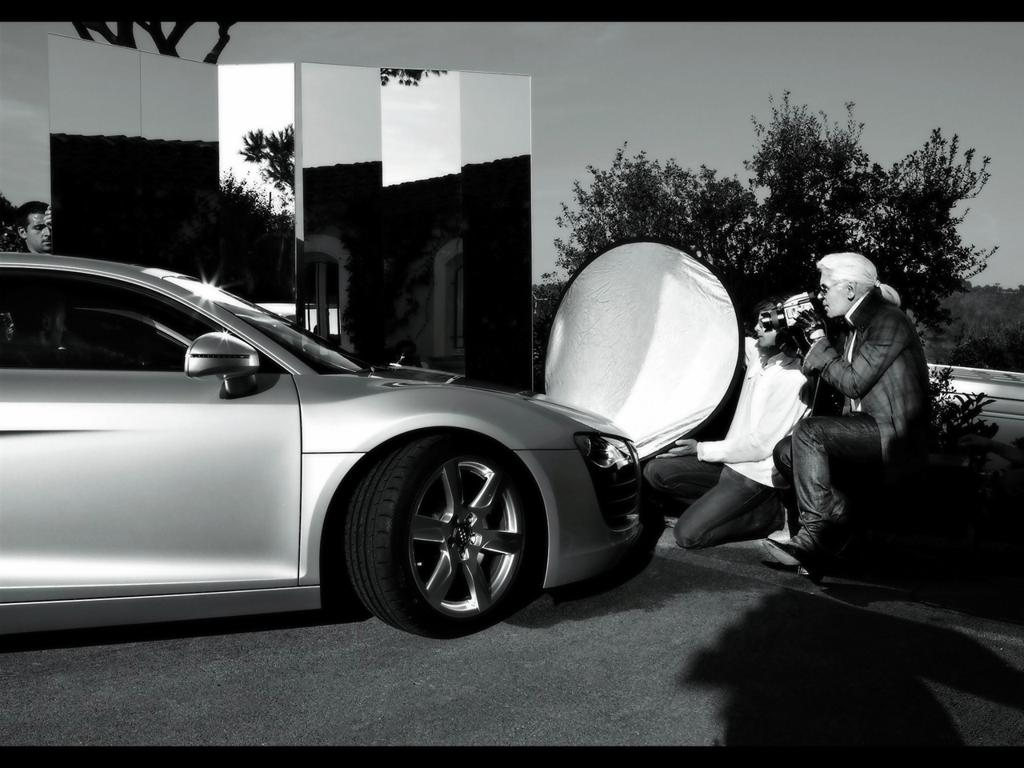face: (817, 271, 848, 317), (27, 213, 54, 251), (754, 310, 779, 347)
